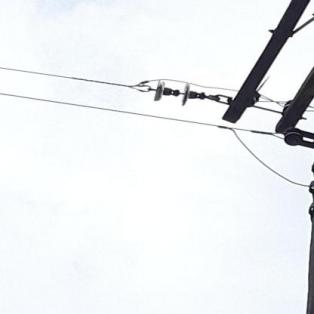Poste: (294, 0, 314, 314)
